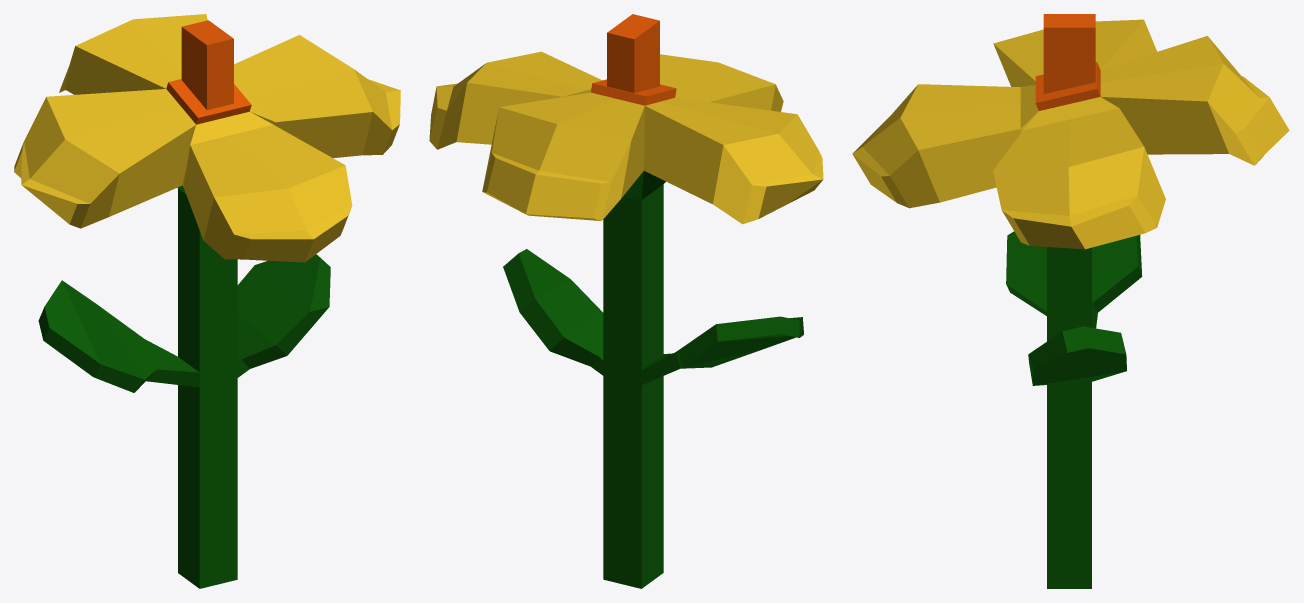
File: Przełącznik.fbx
3 views of the same model, side by side, from view 1: azimuth 30°, elevation 25°; view 2: azimuth 150°, elevation 25°; view 3: azimuth 270°, elevation 25° (orthographic). The views are drawn at different scales.
Parts seen in each view (by area): view 1: Cube.005, Buff.001, Cube.006; view 2: Cube.005, Buff.001, Cube.006; view 3: Cube.005, Buff.001, Cube.006.
Boxes of the visible parts, x1,y1,x2,y2 form: Cube.005: [14, 14, 400, 262]; Buff.001: [38, 185, 330, 588]; Cube.006: [181, 20, 233, 109]; Cube.005: [429, 51, 823, 224]; Buff.001: [503, 171, 803, 588]; Cube.006: [607, 14, 659, 92]; Cube.005: [852, 19, 1289, 249]; Buff.001: [1006, 231, 1142, 588]; Cube.006: [1043, 14, 1095, 93].
Bounding box in the file's own units: 46.32 × 63.13 × 44.78.
